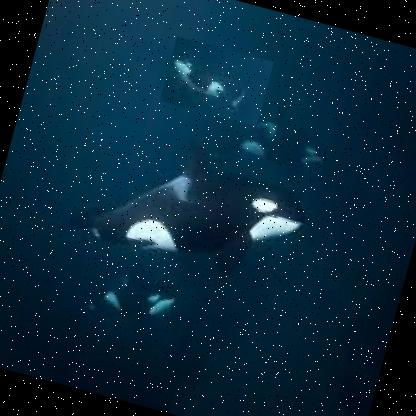killer_whale: (66, 128, 314, 304), (158, 36, 273, 127)
